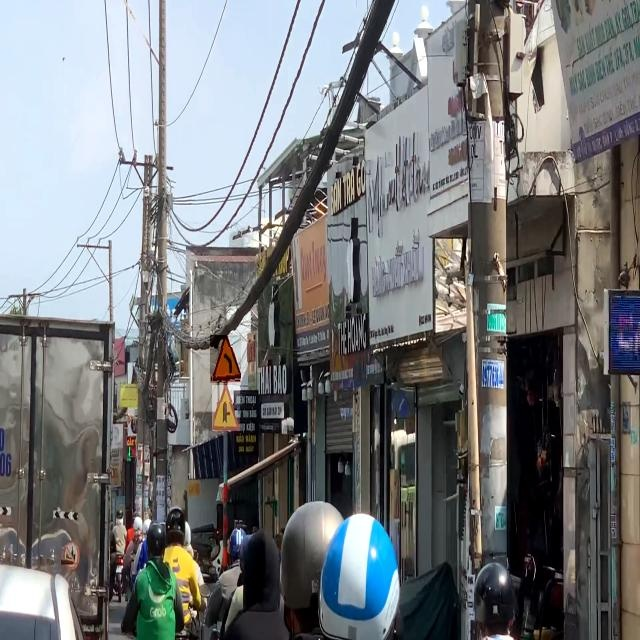bien_nguy_hiem: (210, 335, 241, 383), (212, 385, 240, 431)
